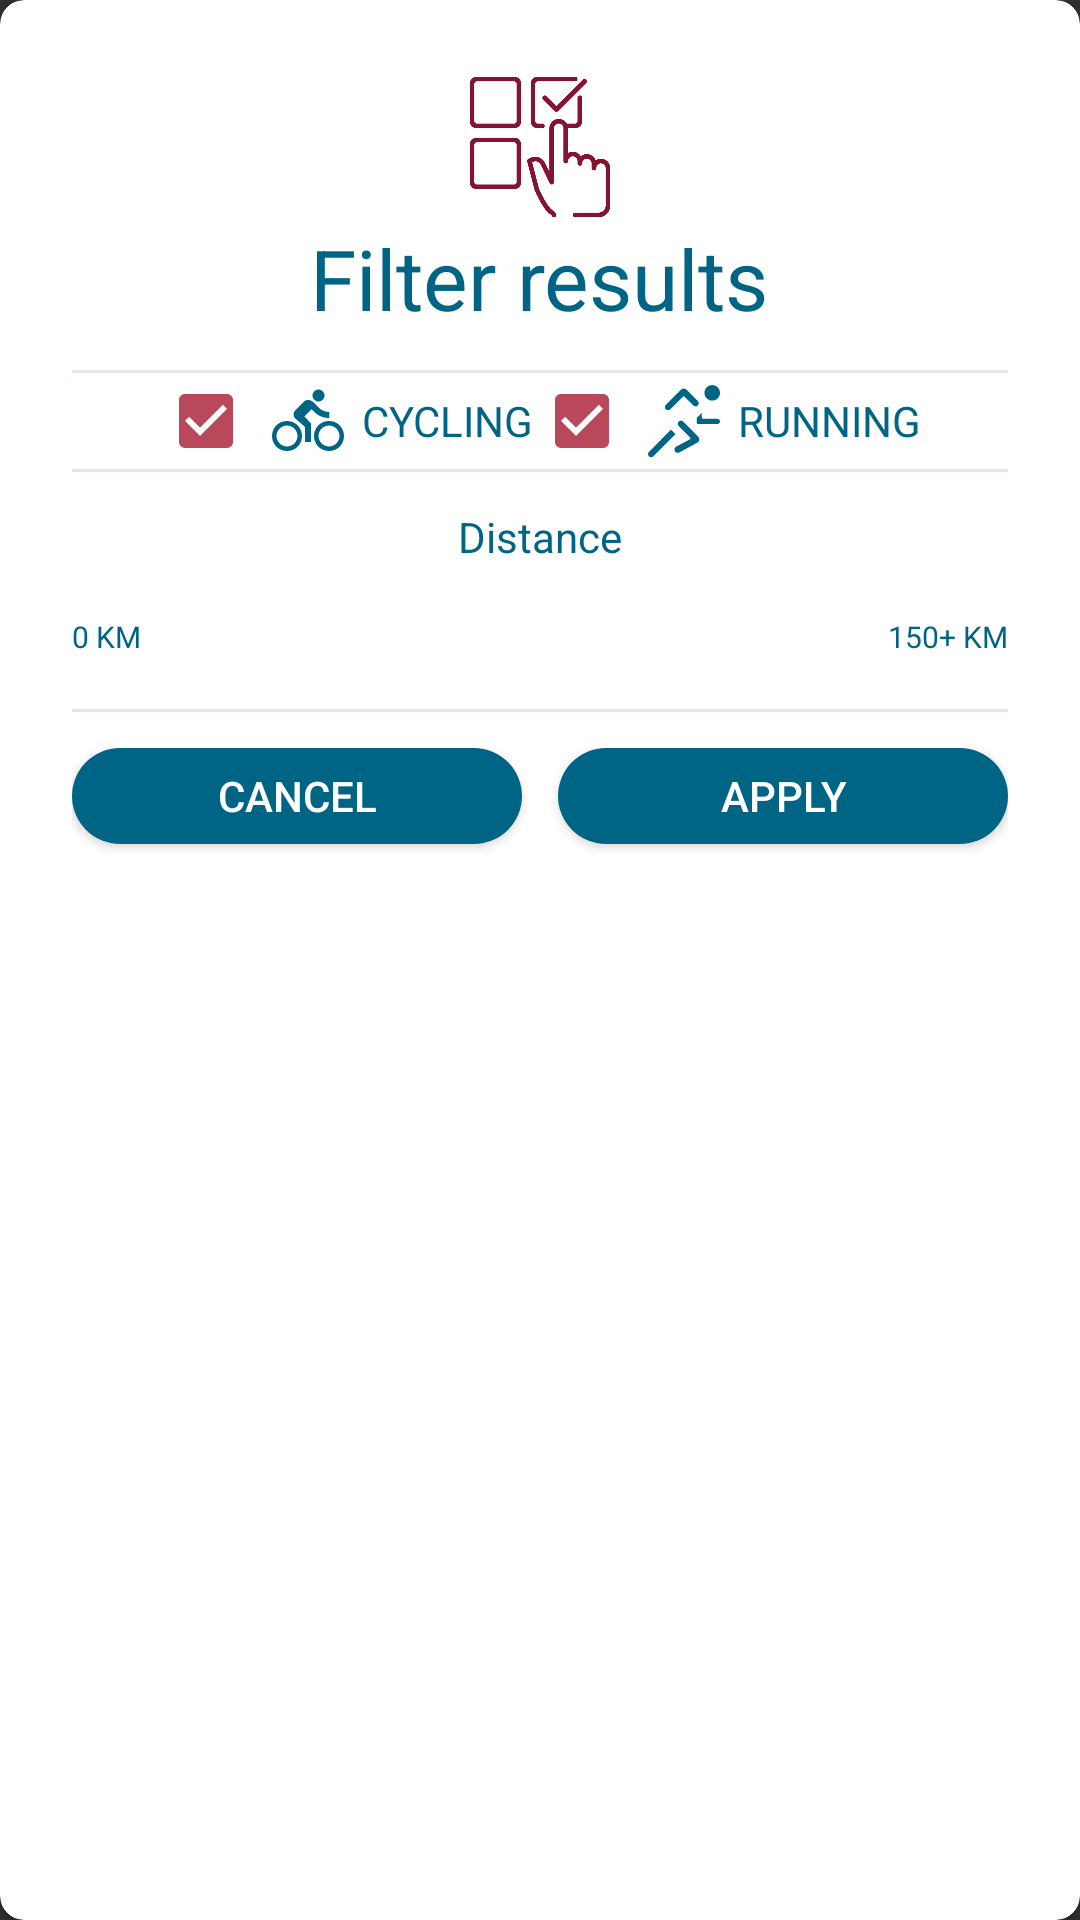

Screen size 1080*1920. Icon name, then its box in pixels as (x1, y1, x2, y2):
choose: (470, 77, 610, 217)
